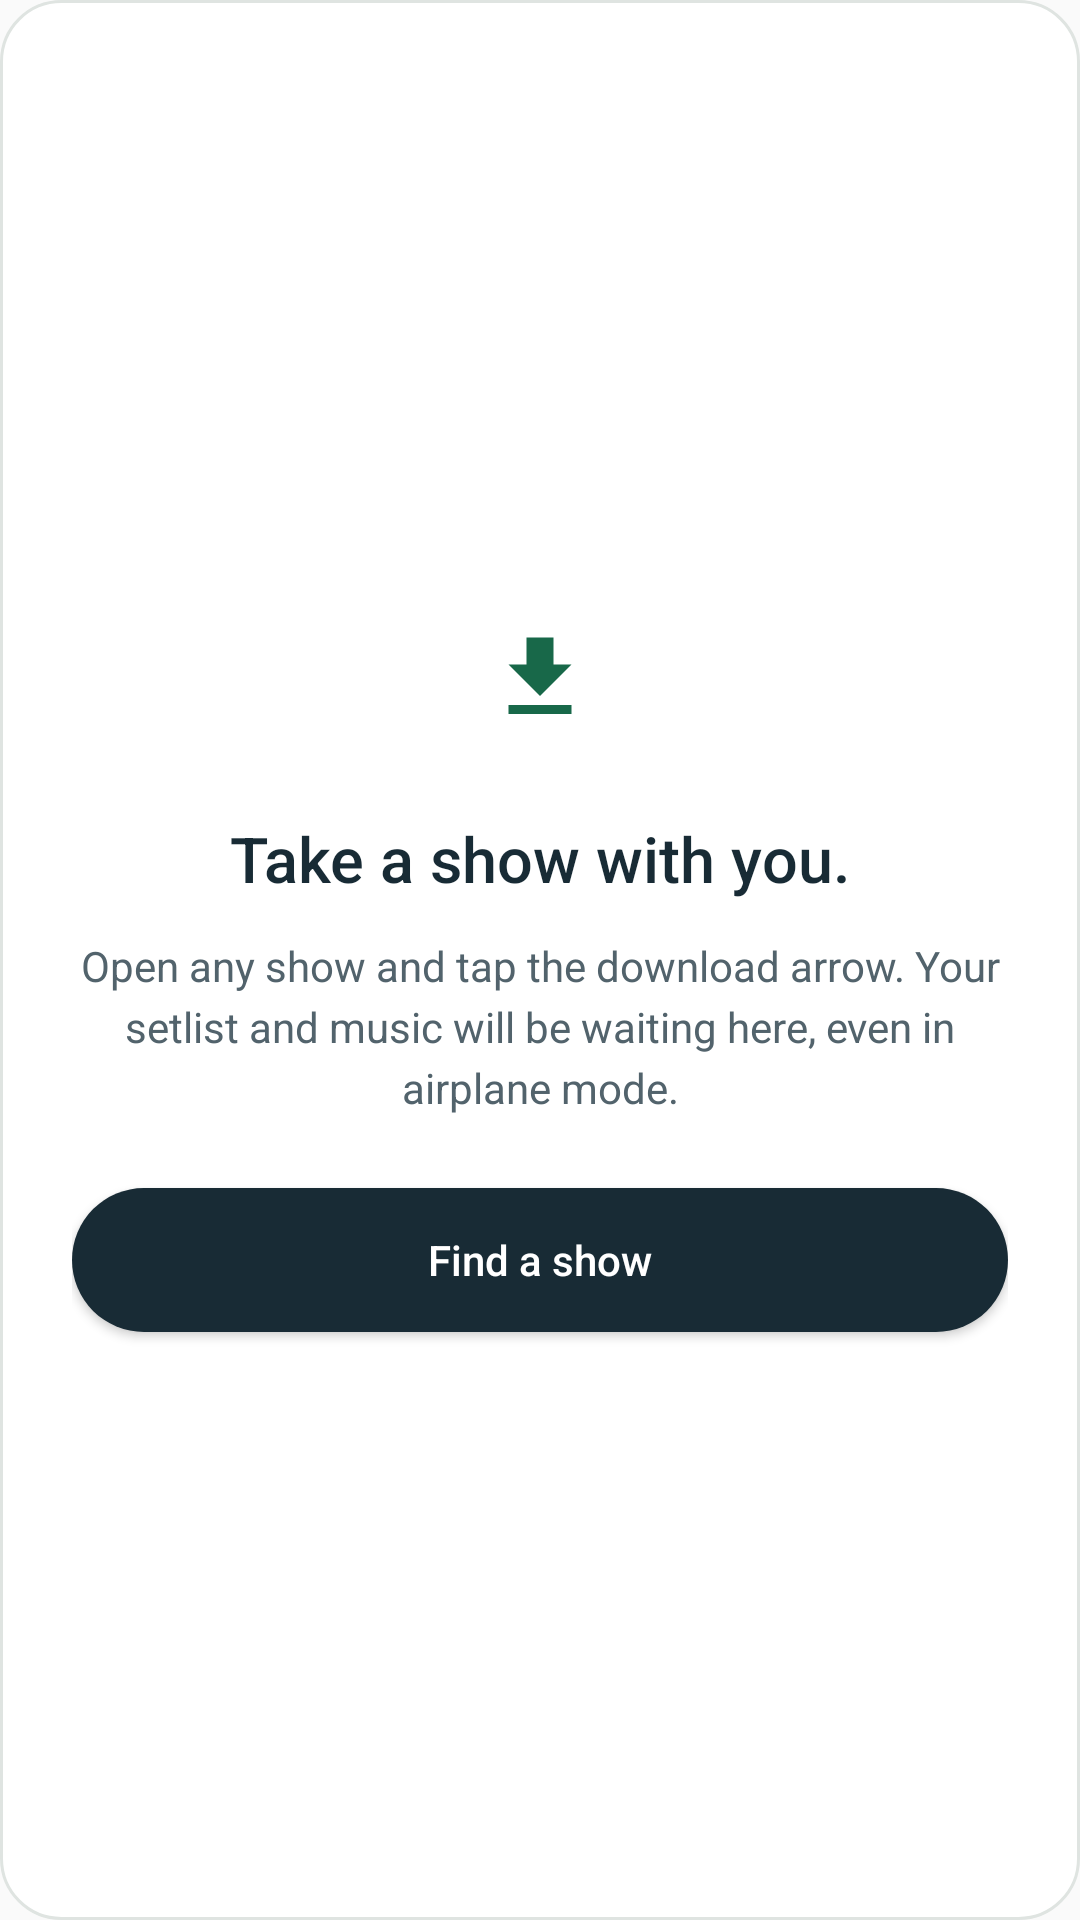

Icons on this 1080px×1920px Android screen, each with its box as {"x1": x1, "y1": y1, "x2": x2, "y2": y2}:
file download: {"x1": 508, "y1": 637, "x2": 572, "y2": 714}
